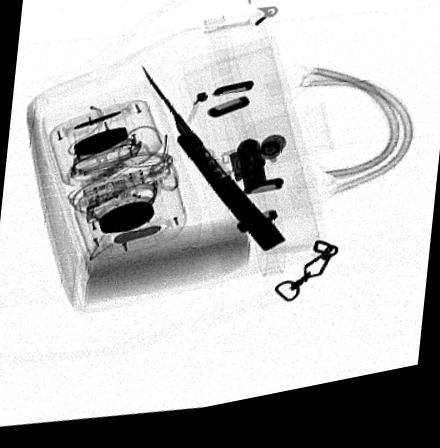Knife: (140, 68, 285, 262)
